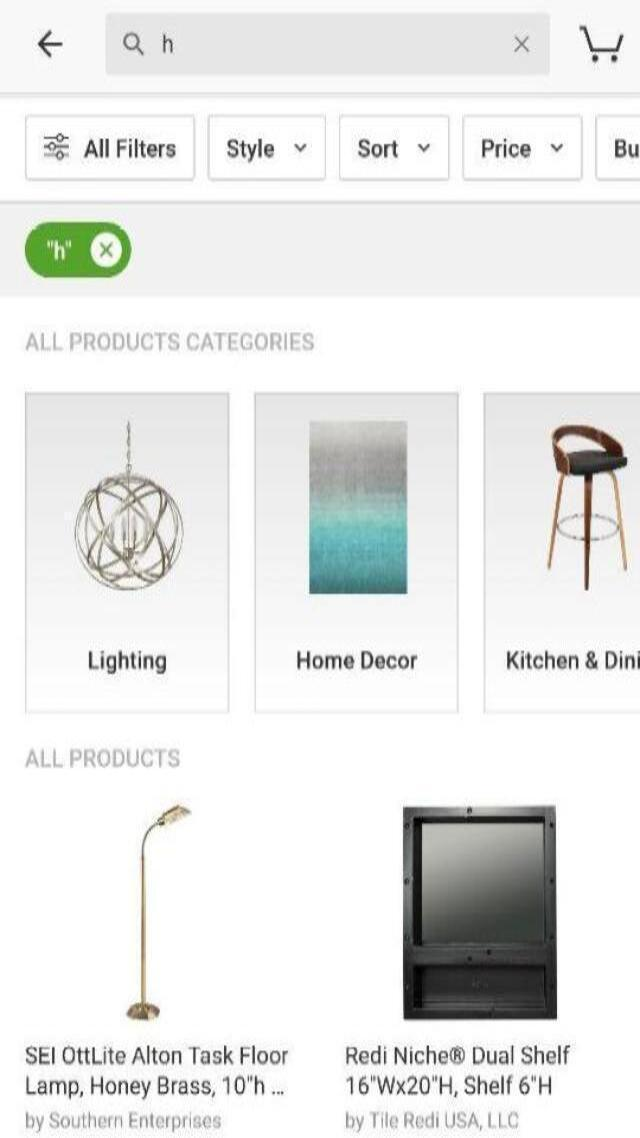Icon: (568, 15, 630, 70), (34, 26, 66, 62)
Image: (402, 806, 560, 1021), (86, 802, 220, 1020), (70, 417, 186, 602), (526, 420, 634, 590), (306, 424, 408, 596)
Text: (22, 326, 324, 359), (20, 1070, 294, 1102), (16, 1042, 290, 1068), (18, 739, 190, 779), (334, 1040, 578, 1068), (16, 1108, 238, 1138), (337, 1070, 570, 1098), (497, 637, 640, 682), (283, 637, 432, 679), (336, 1105, 532, 1136), (68, 642, 188, 685)
TextButton: (23, 390, 231, 714), (255, 394, 460, 718), (486, 393, 640, 716), (28, 116, 196, 181), (463, 118, 585, 180), (210, 117, 324, 180), (340, 116, 450, 181), (22, 222, 134, 285), (596, 115, 640, 180)
